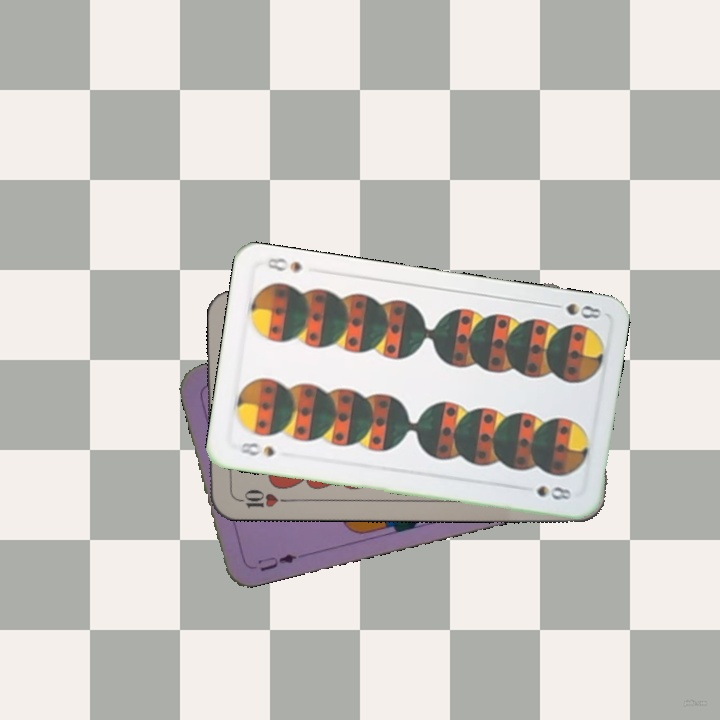EU: (253, 549, 300, 574)
H10: (231, 485, 290, 511)
S8: (545, 299, 604, 322), (231, 438, 277, 459)
